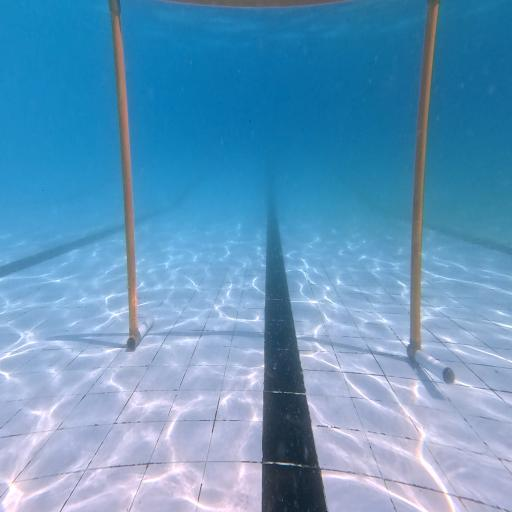gate: (109, 0, 455, 385)
